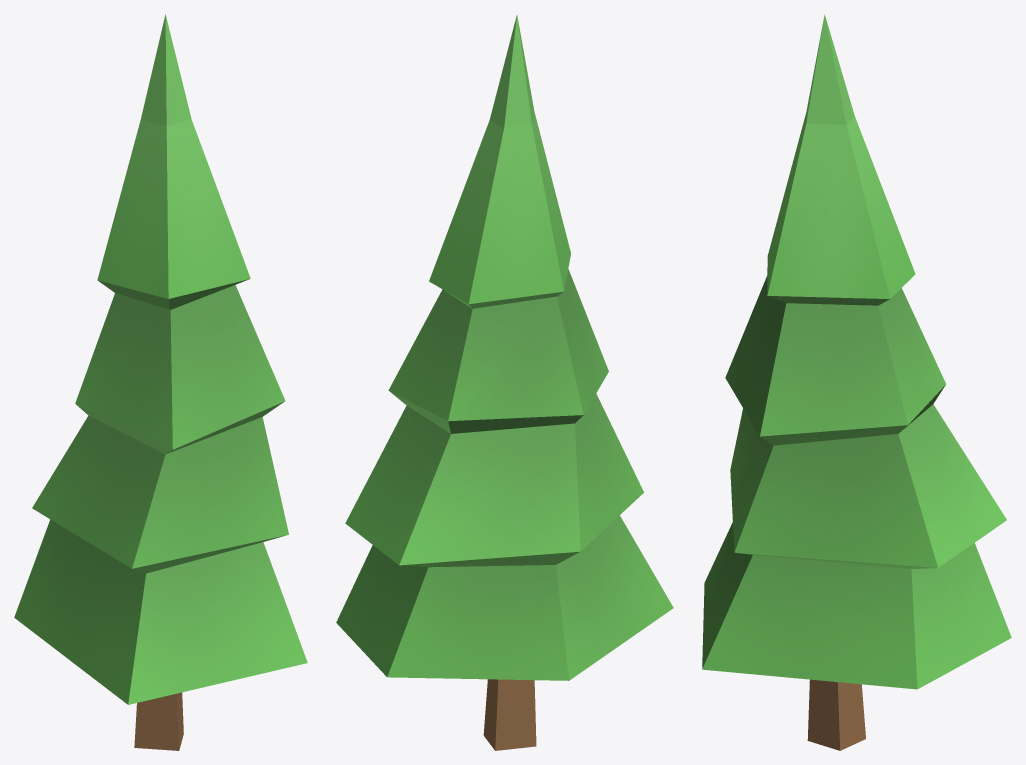
The model's file is Fir_Tree_m_BT_10.fbx.
3 renders of one model, left to right at view 1: azimuth 30°, elevation 25°; view 2: azimuth 150°, elevation 25°; view 3: azimuth 270°, elevation 25°, orthographic.
Visible parts, largest first — view 1: Fir_Tree_m_BT_10; view 2: Fir_Tree_m_BT_10; view 3: Fir_Tree_m_BT_10.
Part boxes in pixels (x1,y1,x2,y2): Fir_Tree_m_BT_10: (14,14,307,750); Fir_Tree_m_BT_10: (336,14,673,750); Fir_Tree_m_BT_10: (702,14,1011,750).
Bounding box in the file's own units: 148 × 434 × 168.
